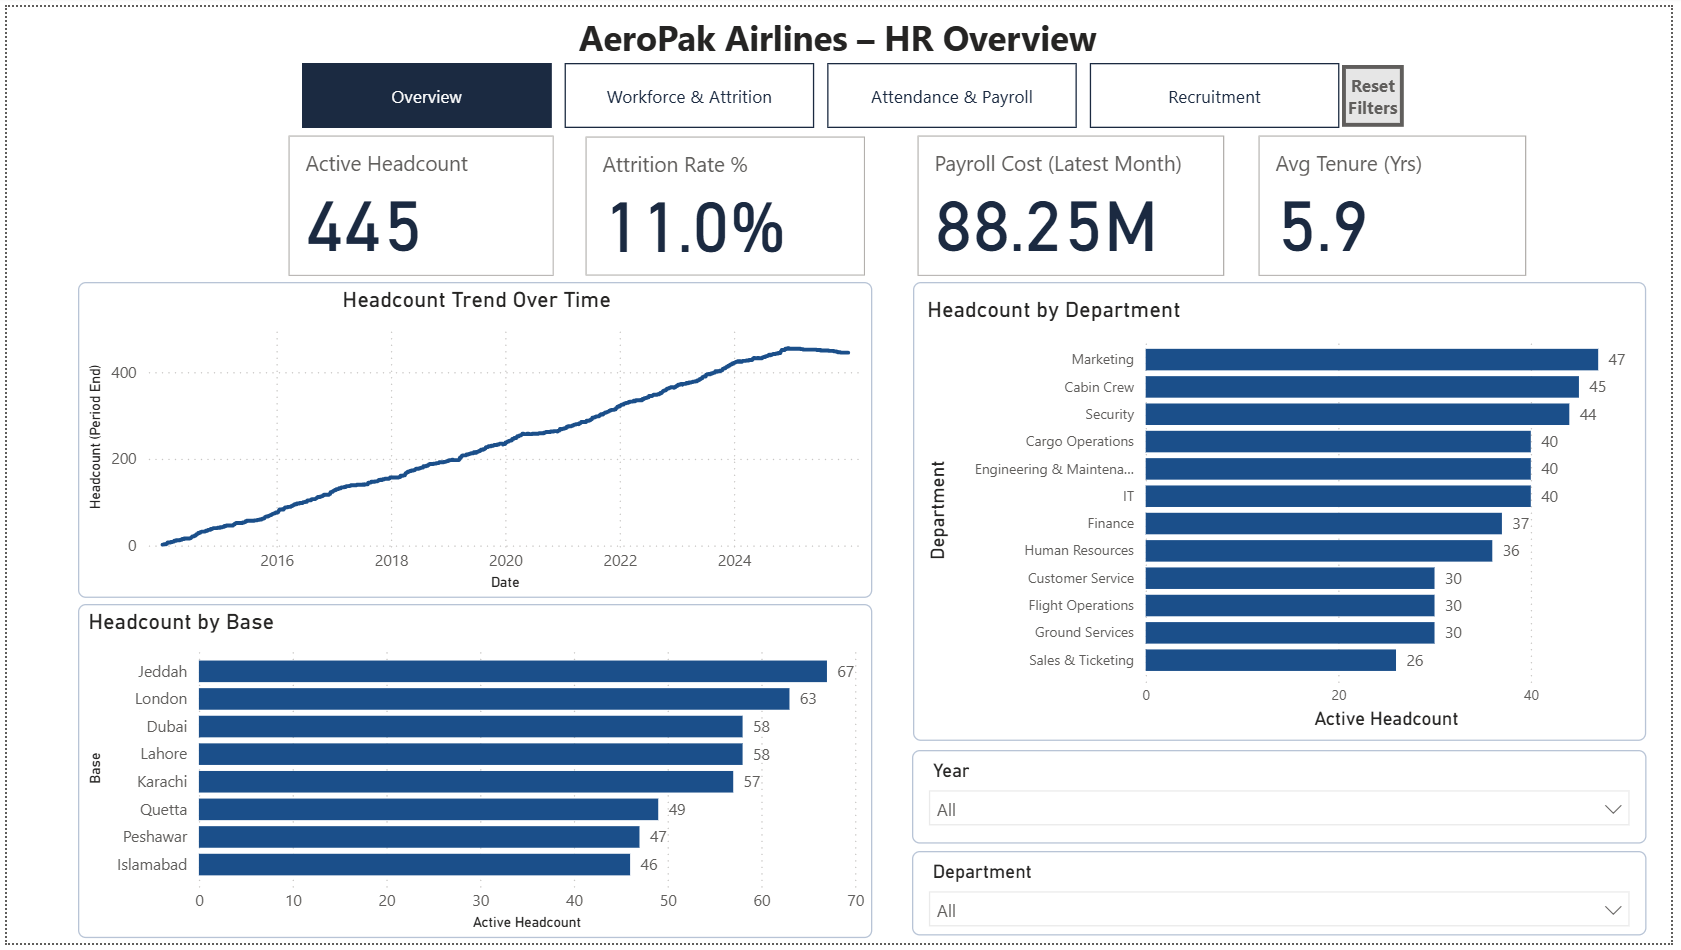

This screenshot's page, from the dashboard's own definition file:
{"tool":"powerbi","page":{"name":"Overview","canvas":[1280,720],"ordinal":0},"visuals":[{"type":"textbox","box":[425.7,0,427.1,68.6],"z":0},{"type":"cardVisual","fields":{"Data":["_Measures.Active Headcount"]},"box":[211.7,93.6,214.6,118.1],"z":1000},{"type":"cardVisual","fields":{"Data":["_Measures.Attrition Rate %"]},"box":[440,94.3,225.7,117.1],"z":2000},{"type":"cardVisual","fields":{"Data":["_Measures.Payroll Cost (Latest Month)"]},"box":[695.5,93.6,246.2,118.1],"z":3000},{"type":"cardVisual","fields":{"Data":["_Measures.Avg Tenure (Yrs)"]},"box":[957.6,93.6,216,118.1],"z":4000},{"type":"lineChart","title":"Headcount Trend Over Time","fields":{"Category":["Dim_Date.Date"],"Y":["_Measures.Headcount (Period End)"]},"box":[55,211.9,611.5,242.7],"z":5000},{"type":"clusteredBarChart","title":"Headcount by Department","fields":{"Category":["Dim_Employee.Department"],"Y":["_Measures.Active Headcount"]},"box":[697.1,211.4,564.3,352.9],"z":6000},{"type":"clusteredBarChart","title":"Headcount by Base","fields":{"Category":["Dim_Branch.BranchCity"],"Y":["_Measures.Active Headcount"]},"box":[55,459,610.8,256.6],"z":7000},{"type":"slicer","fields":{"Values":["Dim_Date.Year"]},"box":[696.5,571.2,565.3,71.9],"z":8000},{"type":"slicer","fields":{"Values":["Dim_Employee.Department"]},"box":[696.5,649.6,565.3,65.3],"z":9000},{"type":"pageNavigator","box":[226.7,43.3,800,50],"z":10000},{"type":"actionButton","title":"Reset Filters","box":[1026.7,44.6,47.5,47.5],"z":10501}]}

Visuals, with their boxes in screenshot pixels (x1, y1, x2, y2), scaled from the page's 1280x720 canvas onto the 1681x950 screenshot:
textbox: pyautogui.locateOnScreen(559, 0, 1120, 91)
cardVisual - _Measures.Active Headcount: pyautogui.locateOnScreen(278, 123, 560, 279)
cardVisual - _Measures.Attrition Rate %: pyautogui.locateOnScreen(578, 124, 874, 279)
cardVisual - _Measures.Payroll Cost (Latest Month): pyautogui.locateOnScreen(913, 123, 1237, 279)
cardVisual - _Measures.Avg Tenure (Yrs): pyautogui.locateOnScreen(1258, 123, 1541, 279)
"Headcount Trend Over Time" lineChart: pyautogui.locateOnScreen(72, 280, 875, 600)
"Headcount by Department" clusteredBarChart: pyautogui.locateOnScreen(915, 279, 1657, 745)
"Headcount by Base" clusteredBarChart: pyautogui.locateOnScreen(72, 606, 874, 944)
slicer - Dim_Date.Year: pyautogui.locateOnScreen(915, 754, 1657, 849)
slicer - Dim_Employee.Department: pyautogui.locateOnScreen(915, 857, 1657, 943)
pageNavigator: pyautogui.locateOnScreen(298, 57, 1348, 123)
"Reset Filters" actionButton: pyautogui.locateOnScreen(1348, 59, 1411, 122)
